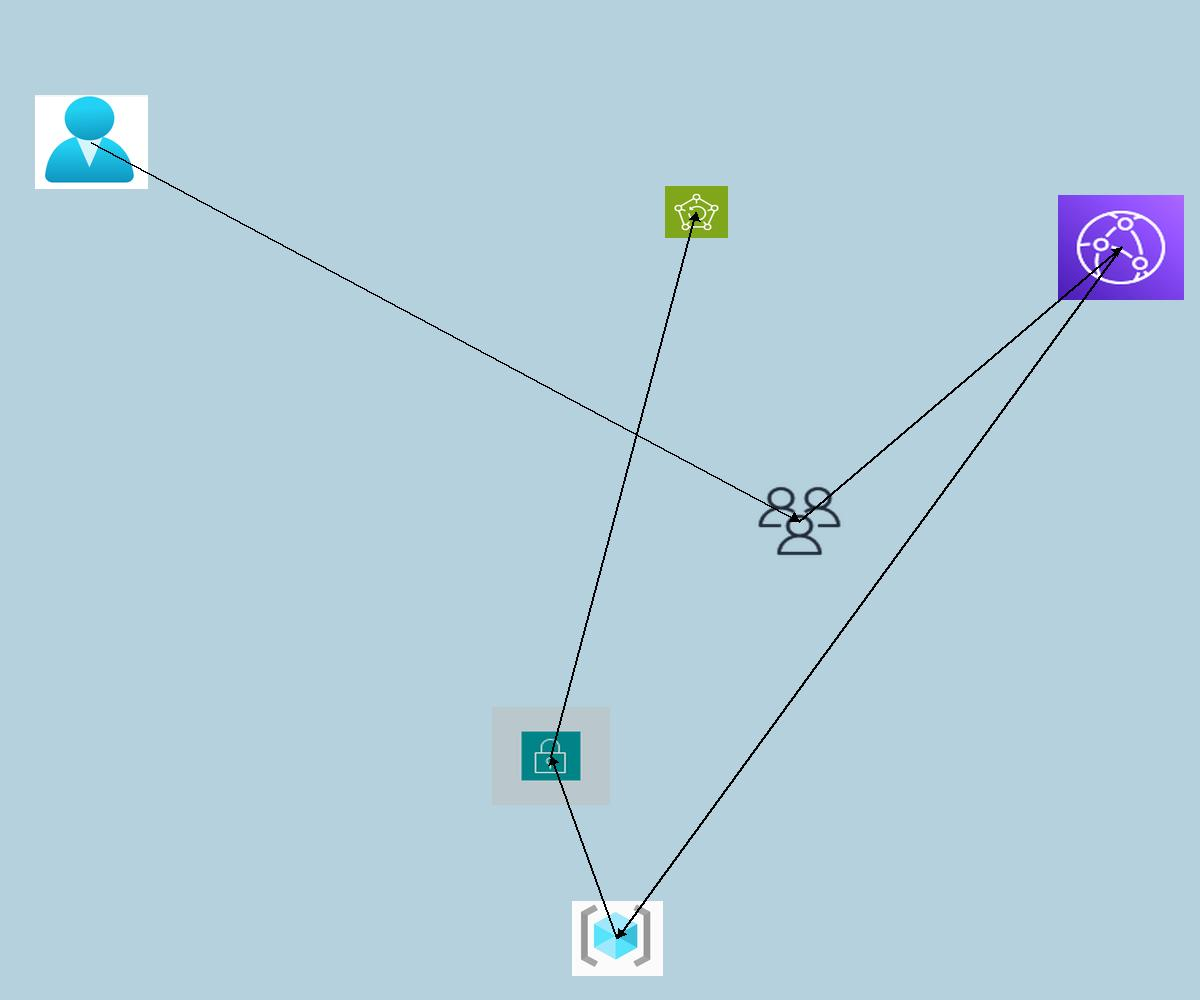AWS-Backup: (665, 186, 728, 238)
AWS-CloudFront: (1058, 195, 1184, 300)
AWS-Private-subnet: (492, 707, 610, 805)
AWS-Res_Users: (755, 484, 844, 558)
Azure_resource_group: (572, 901, 663, 976)
Azure_users: (35, 95, 148, 189)
